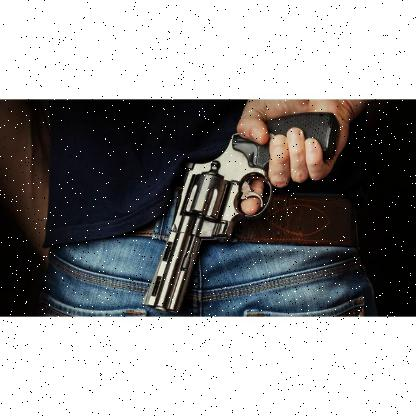gun: (140, 106, 338, 310)
